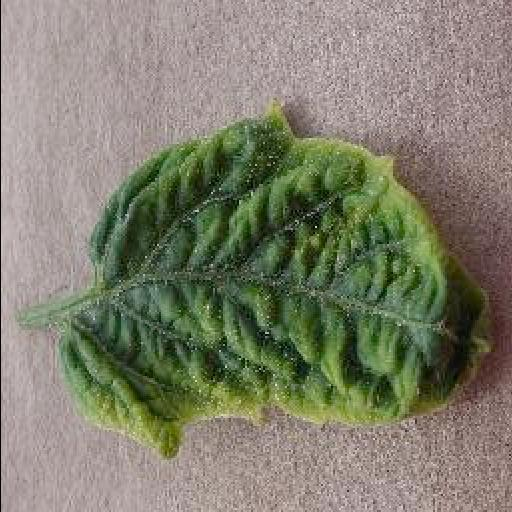disease_tomato: (54, 96, 492, 460)
